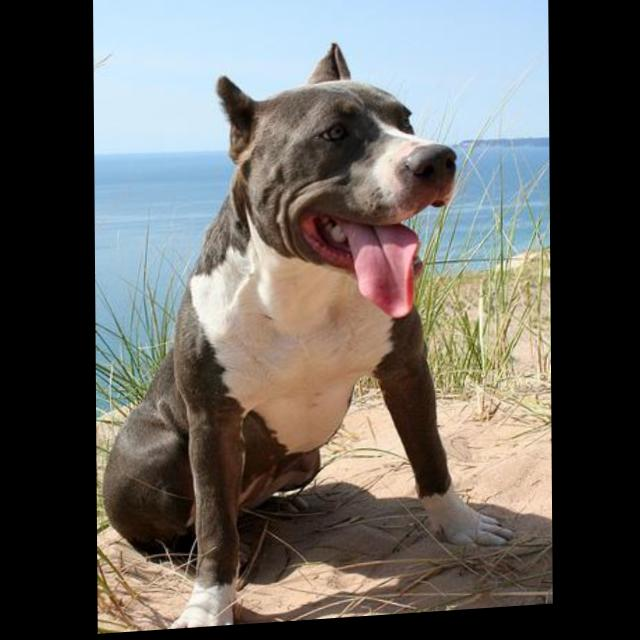amstaff: (96, 37, 516, 636)
